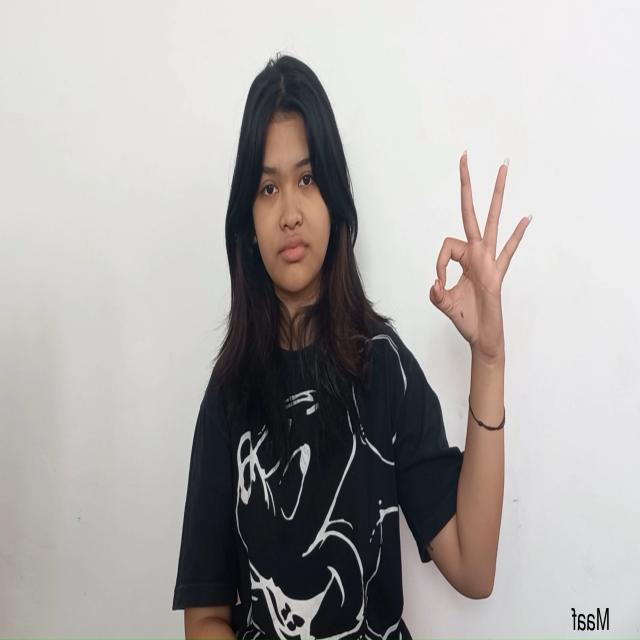Maaf -BISINDO-: (428, 145, 534, 376)
